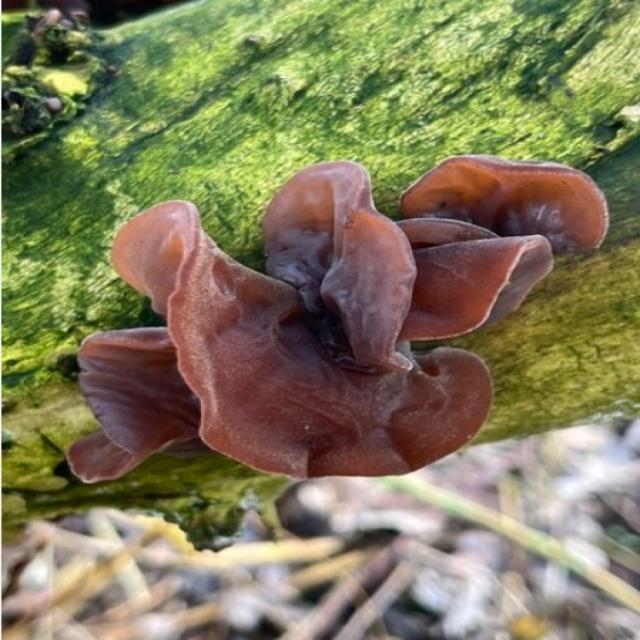Matang: (30, 168, 628, 476)
